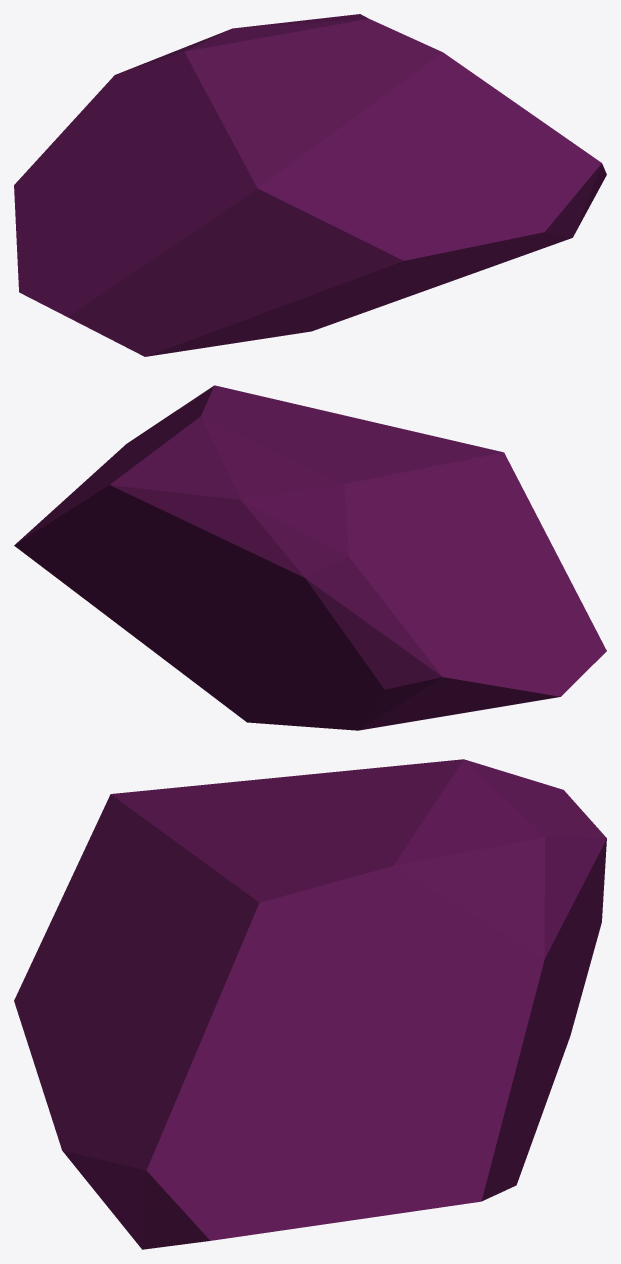
The model's file is BlackStone1.fbx.
3 renders of one model, top to bottom at view 1: azimuth 30°, elevation 25°; view 2: azimuth 150°, elevation 25°; view 3: azimuth 270°, elevation 25°, orthographic. The views are drawn at different scales.
Visible parts, largest first — view 1: Cube.003; view 2: Cube.003; view 3: Cube.003.
Boxes of the visible parts, <box> form: Cube.003: <box>14,14,606,356</box>; Cube.003: <box>14,385,606,730</box>; Cube.003: <box>14,759,606,1249</box>.
Bounding box in the file's own units: 375 × 183 × 236.
